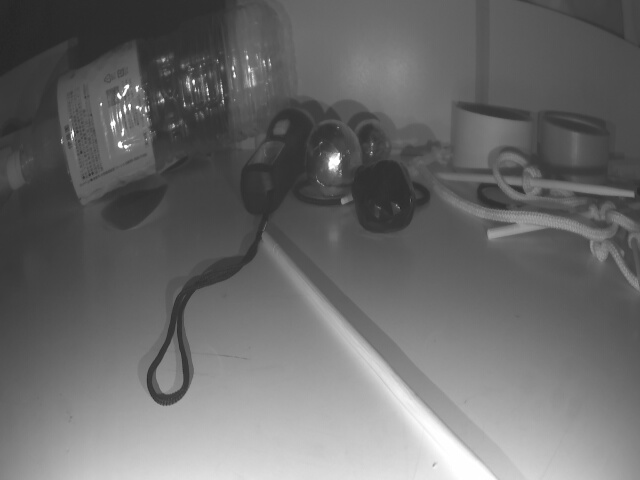Dead: (358, 162, 414, 227)
Live: (304, 120, 358, 192), (354, 119, 389, 169)
